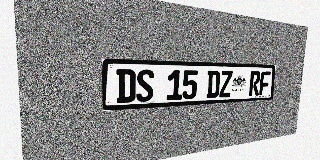1: (166, 70, 183, 100)
5: (182, 70, 198, 99)
D: (116, 69, 136, 103), (206, 70, 220, 98)
F: (259, 71, 270, 95)
R: (249, 71, 261, 96)
S: (136, 69, 154, 102)
Z: (219, 71, 233, 97)
